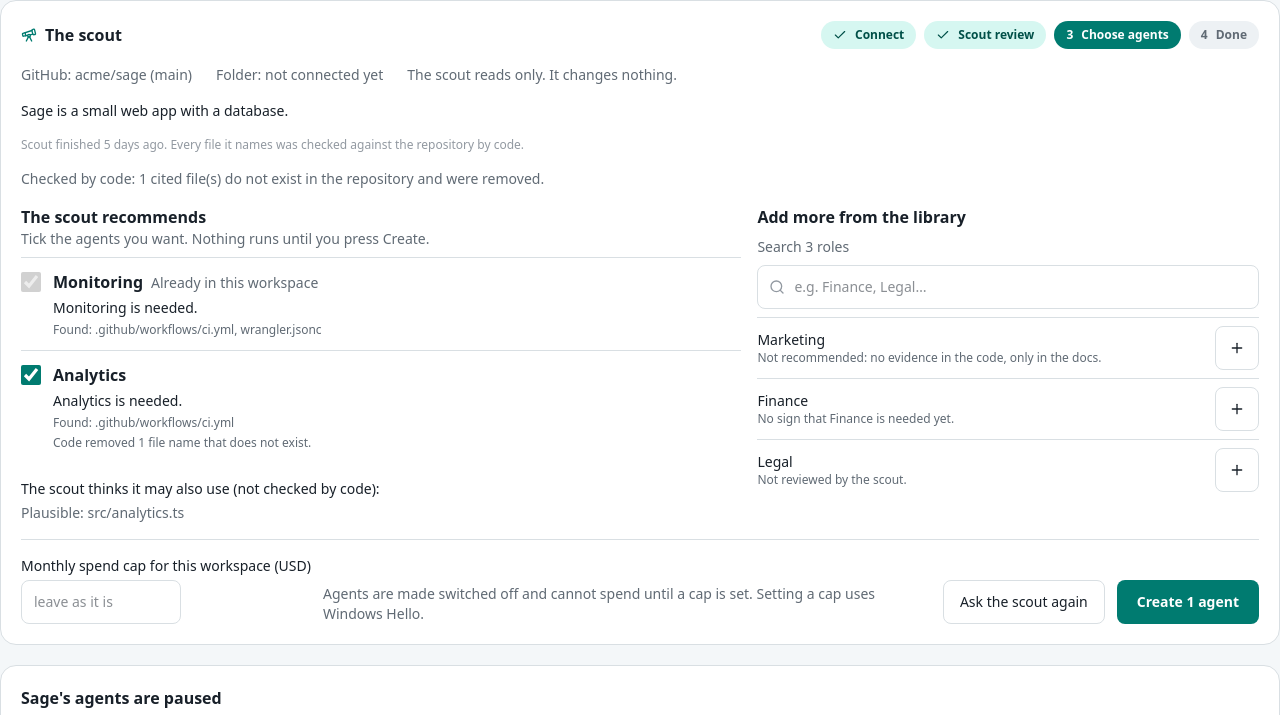
Test: the scout on the Agents tab › a role the workspace already has is shown as there, and not made again
Expected: the text "Already in this workspace" is shown, top-left (151, 273), bottom-right (318, 292)
Click the button "Create 1 agent": point(1188, 602) top-left (1117, 580), bottom-right (1259, 624)
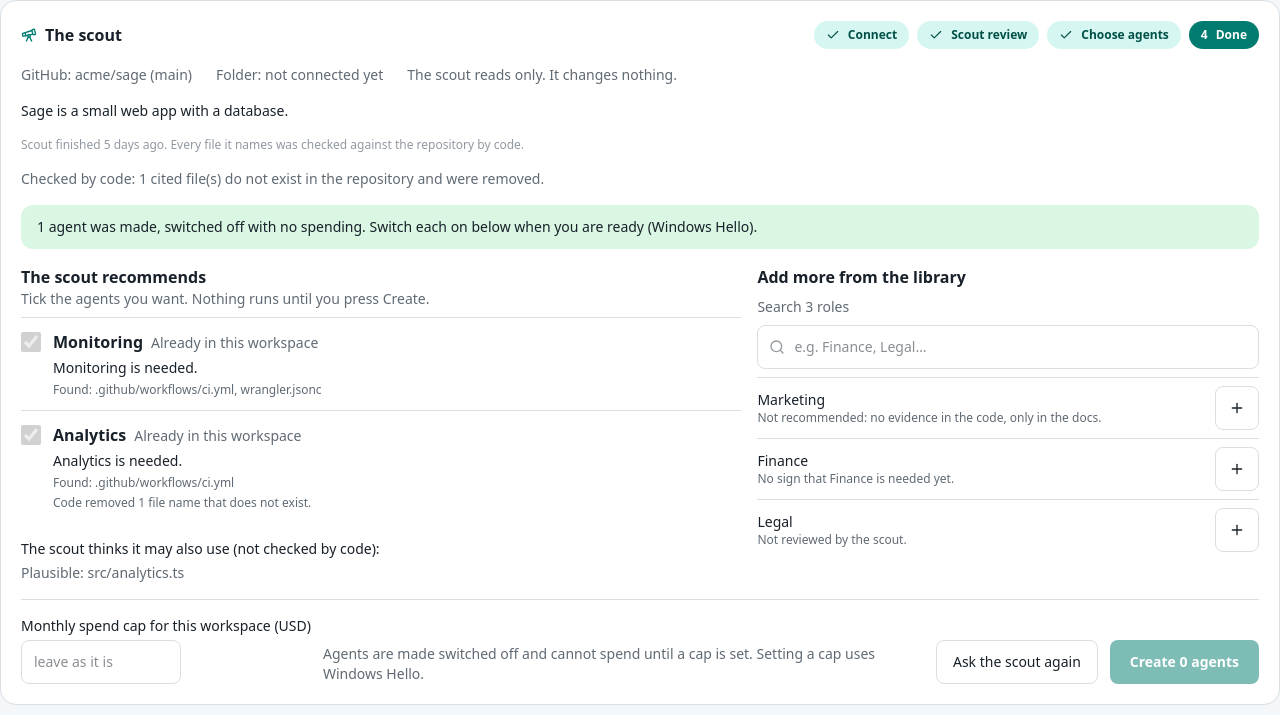
Expected: the text "1 agent was made" is shown, top-left (37, 217), bottom-right (157, 236)
